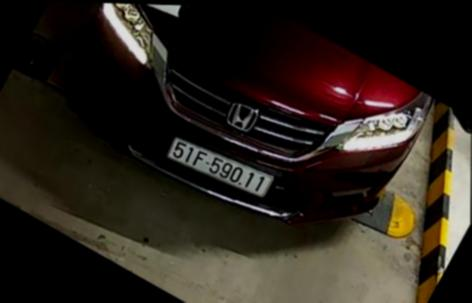License_Plate: (159, 133, 284, 212)
